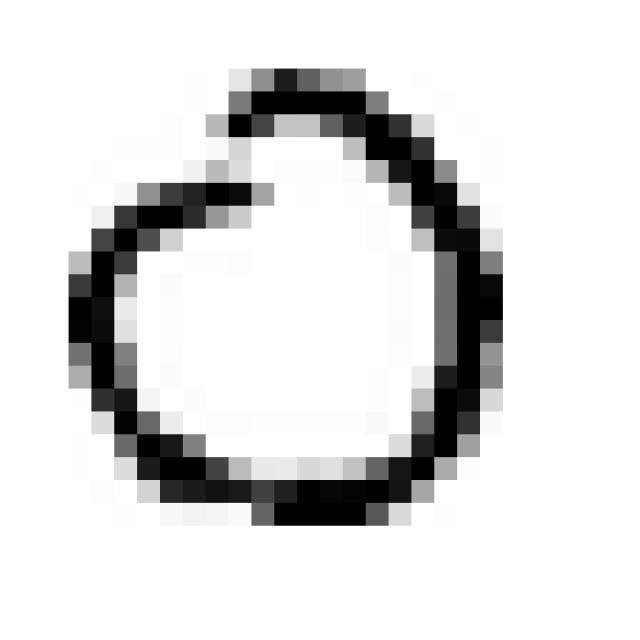5 -five-: (44, 48, 526, 542)
